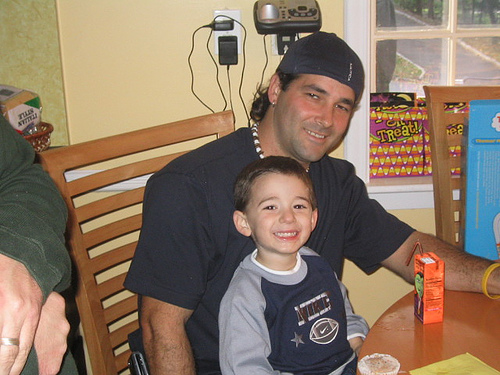without_mask: (270, 68, 353, 155), (233, 175, 318, 258)
